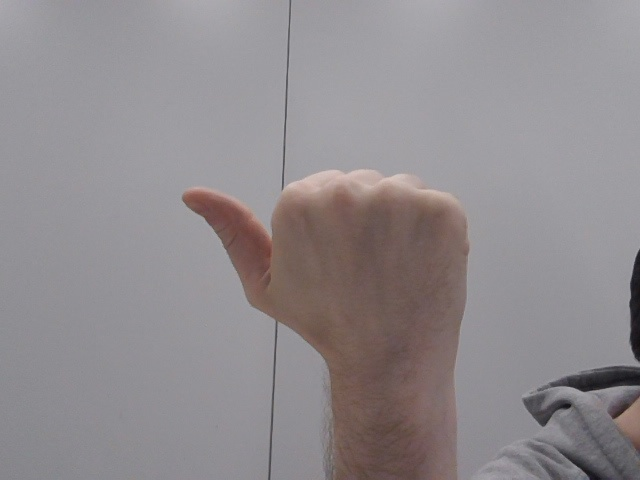right: (145, 161, 497, 360)
